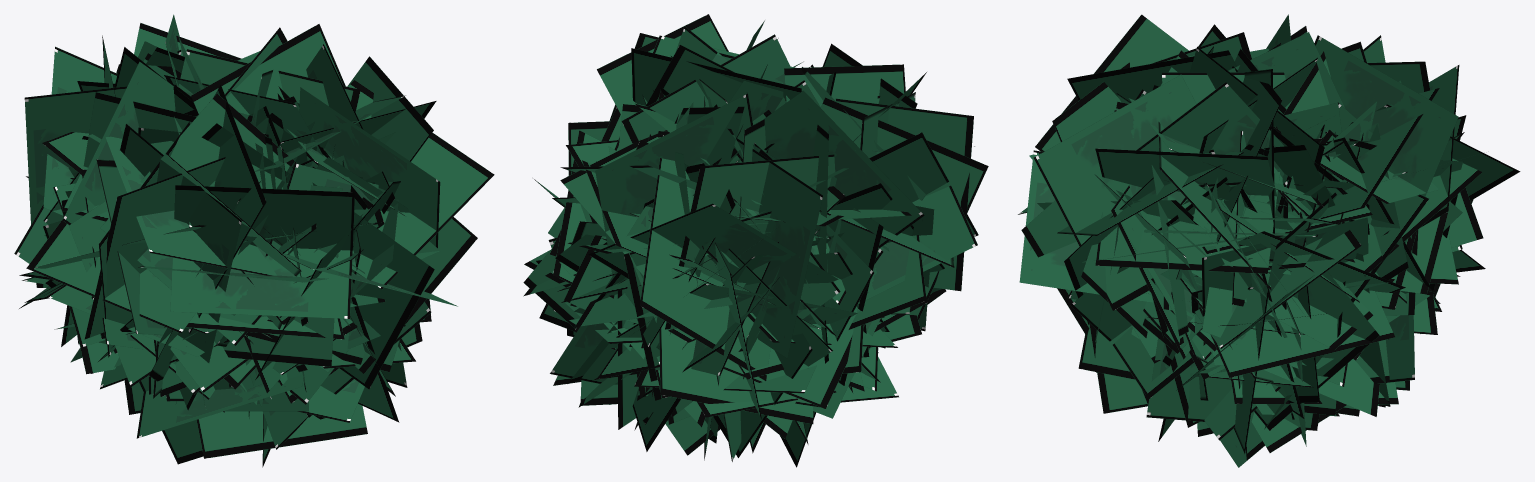
The model's file is bush_3.fbx.
The picture shows the model from 3 angles, left to right: view 1: azimuth 30°, elevation 25°; view 2: azimuth 150°, elevation 25°; view 3: azimuth 270°, elevation 25°; orthographic projection. The views are drawn at different scales.
Parts seen in each view (by area): view 1: Leaf.001; view 2: Leaf.001; view 3: Leaf.001.
Part boxes in pixels (x1,y1,x2,y2): Leaf.001: (14,14,494,467); Leaf.001: (523,14,988,467); Leaf.001: (1018,14,1520,467).
Size of the model in its own units: 228 by 212 by 246.
